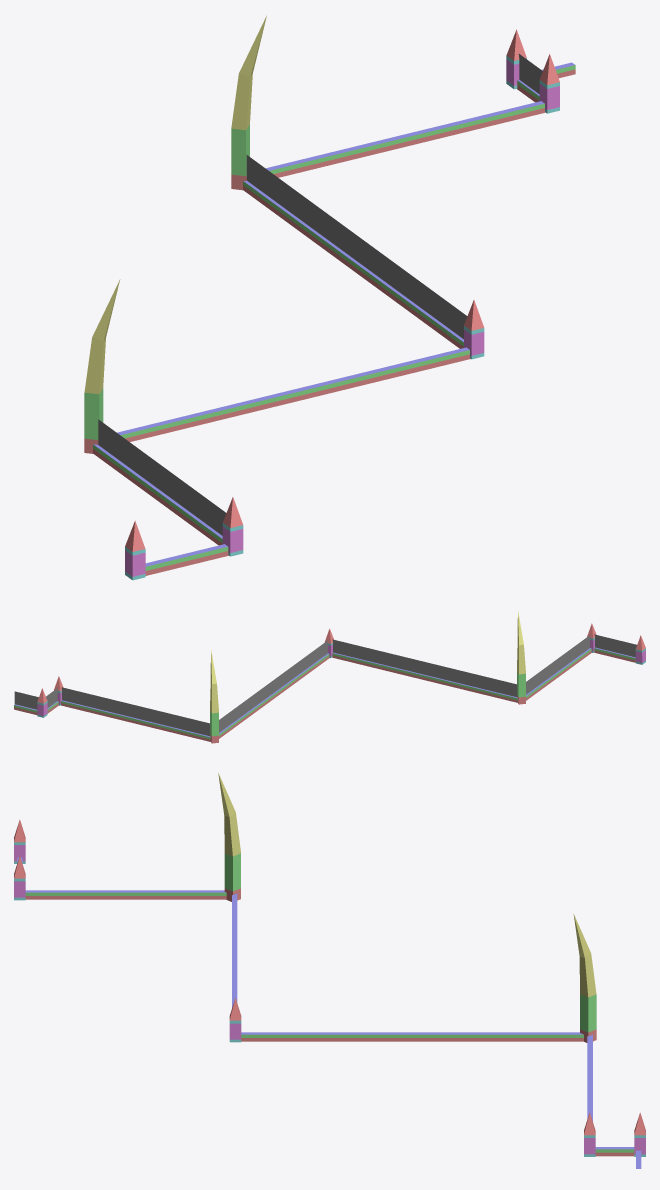
The model's file is O_DE_fence03.gltf.
3 views of the same model, one above another, from view 1: azimuth 30°, elevation 25°; view 2: azimuth 150°, elevation 25°; view 3: azimuth 270°, elevation 25° (orthographic). The views are drawn at different scales.
Visible parts, largest first — view 1: O_DE_fence03; view 2: O_DE_fence03; view 3: O_DE_fence03.
Part boxes in pixels (x1,y1,x2,y2): O_DE_fence03: (84, 15, 575, 580); O_DE_fence03: (14, 611, 645, 743); O_DE_fence03: (14, 773, 645, 1168).
Bounding box in the file's own units: 15.48 × 3.05 × 13.08.
